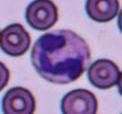E: (32, 29, 90, 83)
